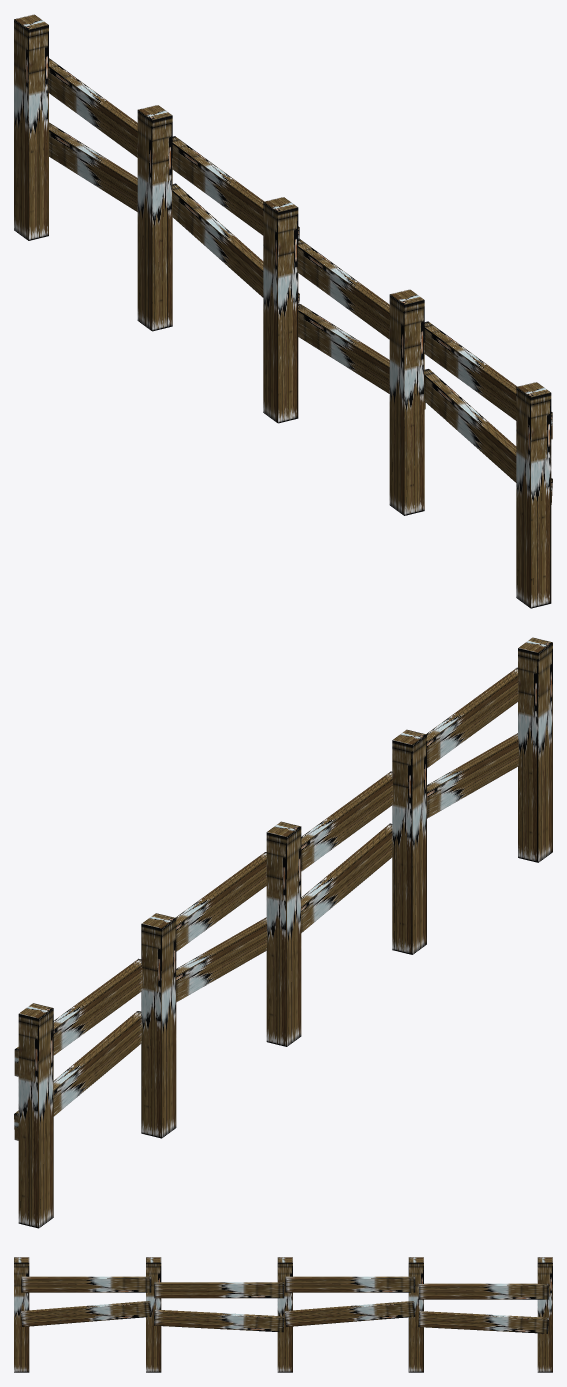
The model's file is fence.FBX.
3 renders of one model, top to bottom at view 1: azimuth 30°, elevation 25°; view 2: azimuth 150°, elevation 25°; view 3: azimuth 270°, elevation 25°, orthographic. The views are drawn at different scales.
Visible parts, largest first — view 1: Box146, Box152, Box155, Box149, Box143, Box154, Box148, Box153, Box151, Box147, Box150, Box145 (+1 smaller); view 2: Box143, Box149, Box146, Box155, Box152, Box144, Box150, Box145, Box151, Box153, Box147, Box154 (+1 smaller); view 3: Box147, Box151, Box153, Box145, Box144, Box150, Box154, Box148, Box155, Box143, Box146, Box152 (+1 smaller).
Part boxes in pixels (bbox=[...]): Box146: bbox=[137, 105, 172, 331]; Box152: bbox=[389, 289, 424, 515]; Box155: bbox=[516, 382, 551, 608]; Box149: bbox=[263, 197, 298, 423]; Box143: bbox=[14, 14, 48, 240]; Box154: bbox=[424, 369, 552, 504]; Box148: bbox=[172, 183, 299, 304]; Box153: bbox=[424, 321, 552, 439]; Box151: bbox=[297, 239, 389, 339]; Box147: bbox=[172, 136, 299, 239]; Box150: bbox=[298, 304, 425, 409]; Box145: bbox=[48, 58, 137, 157]; Box143: bbox=[18, 1003, 53, 1228]; Box149: bbox=[266, 821, 301, 1046]; Box146: bbox=[141, 913, 176, 1138]; Box155: bbox=[518, 637, 552, 862]; Box152: bbox=[392, 729, 426, 954]; Box144: bbox=[14, 1011, 141, 1140]; Box150: bbox=[301, 823, 392, 932]; Box145: bbox=[14, 958, 142, 1076]; Box151: bbox=[301, 771, 392, 871]; Box153: bbox=[426, 667, 518, 767]; Box147: bbox=[175, 852, 266, 951]; Box154: bbox=[427, 733, 518, 818]; Box147: bbox=[285, 1276, 415, 1292]; Box151: bbox=[154, 1282, 284, 1298]; Box153: bbox=[21, 1276, 151, 1292]; Box145: bbox=[419, 1283, 548, 1299]; Box144: bbox=[418, 1311, 548, 1333]; Box150: bbox=[154, 1309, 284, 1332]; Box154: bbox=[20, 1301, 151, 1326]; Box148: bbox=[284, 1301, 415, 1326]; Box155: bbox=[14, 1257, 29, 1372]; Box143: bbox=[537, 1257, 552, 1372]; Box146: bbox=[408, 1257, 423, 1372]; Box152: bbox=[146, 1257, 161, 1372].
Size of the model in its own units: 0.9889 by 6.88 by 30.57.
13 materials, 13 textured.
